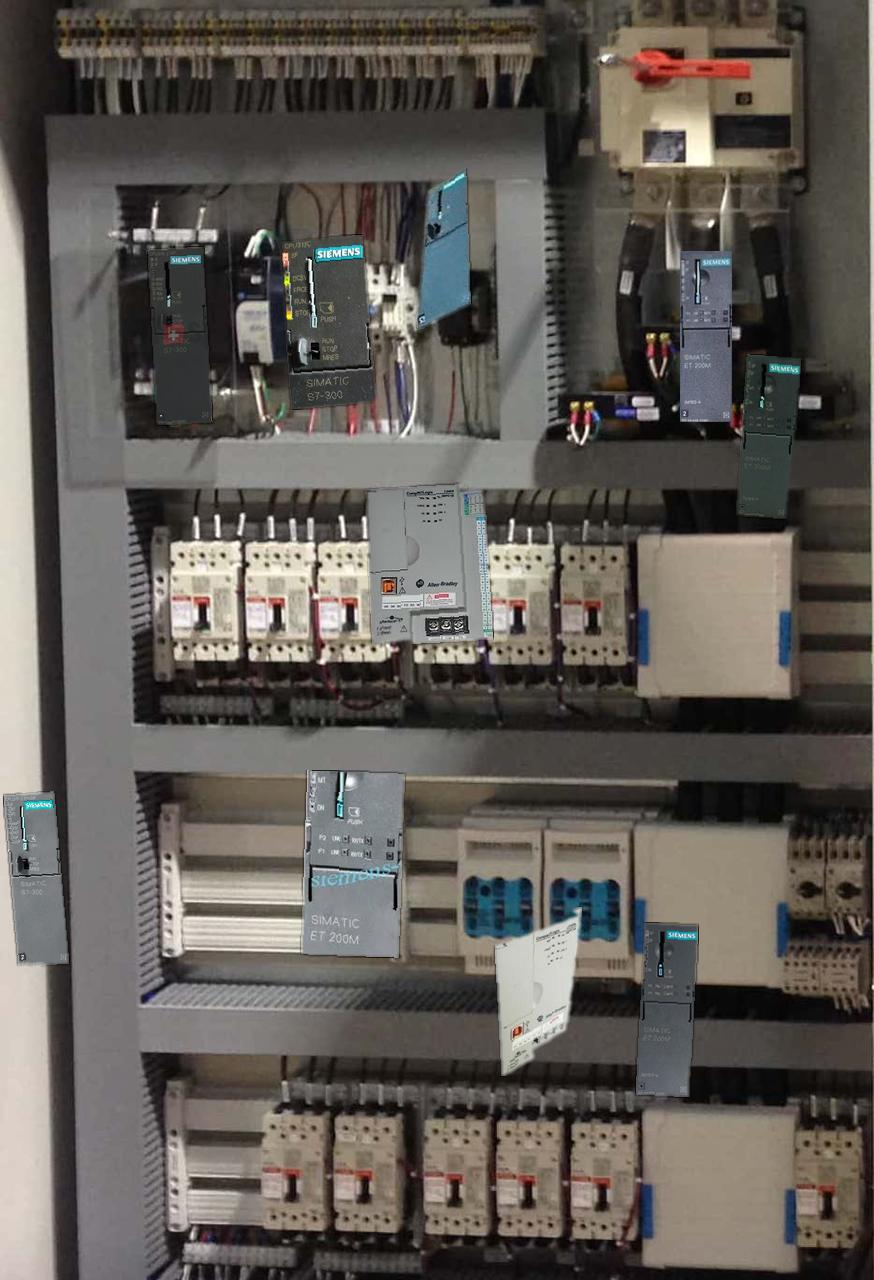AllenBradley: (367, 484, 492, 643), (495, 907, 581, 1075)
Siemens: (280, 235, 375, 408), (147, 247, 212, 424), (4, 792, 68, 964), (417, 168, 470, 328)
